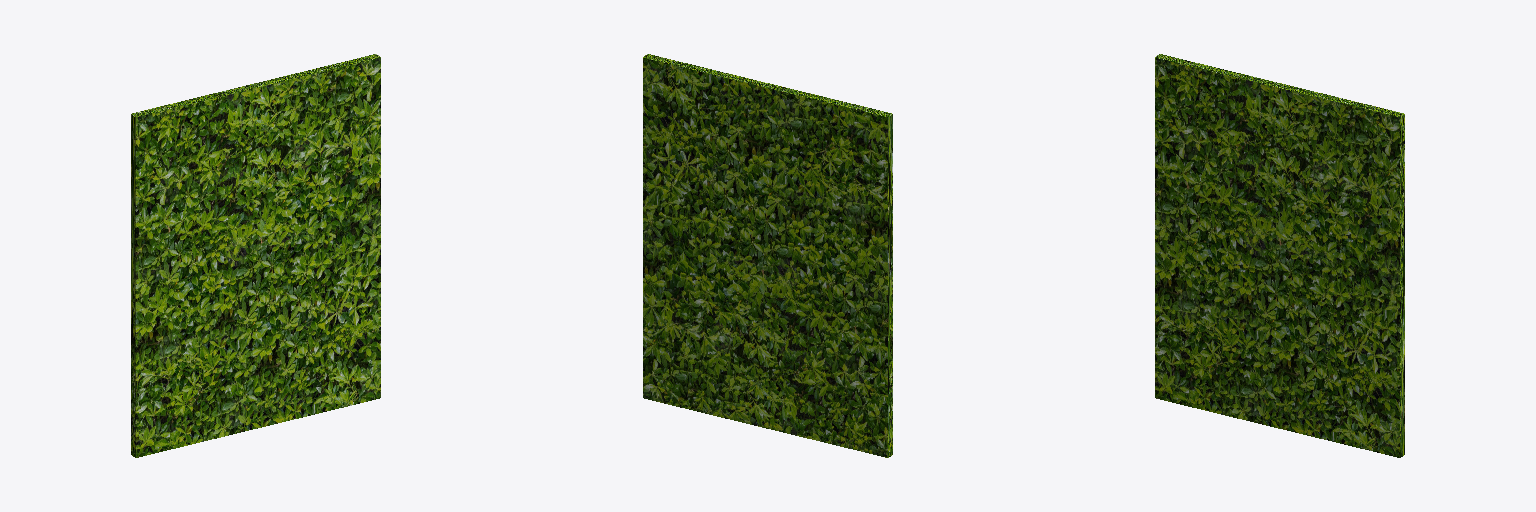
3 views of the same model, side by side, from view 1: azimuth 30°, elevation 25°; view 2: azimuth 150°, elevation 25°; view 3: azimuth 330°, elevation 25° (orthographic).
Parts seen in each view (by area): view 1: pCube2; view 2: pCube2; view 3: pCube2.
Boxes of the visible parts, <box> form: pCube2: <box>131,54,380,457</box>; pCube2: <box>643,54,892,457</box>; pCube2: <box>1155,54,1404,457</box>.
Bounding box in the file's own units: 5.16 × 6.84 × 0.1864.
Materials: 1 (1 with a texture image).